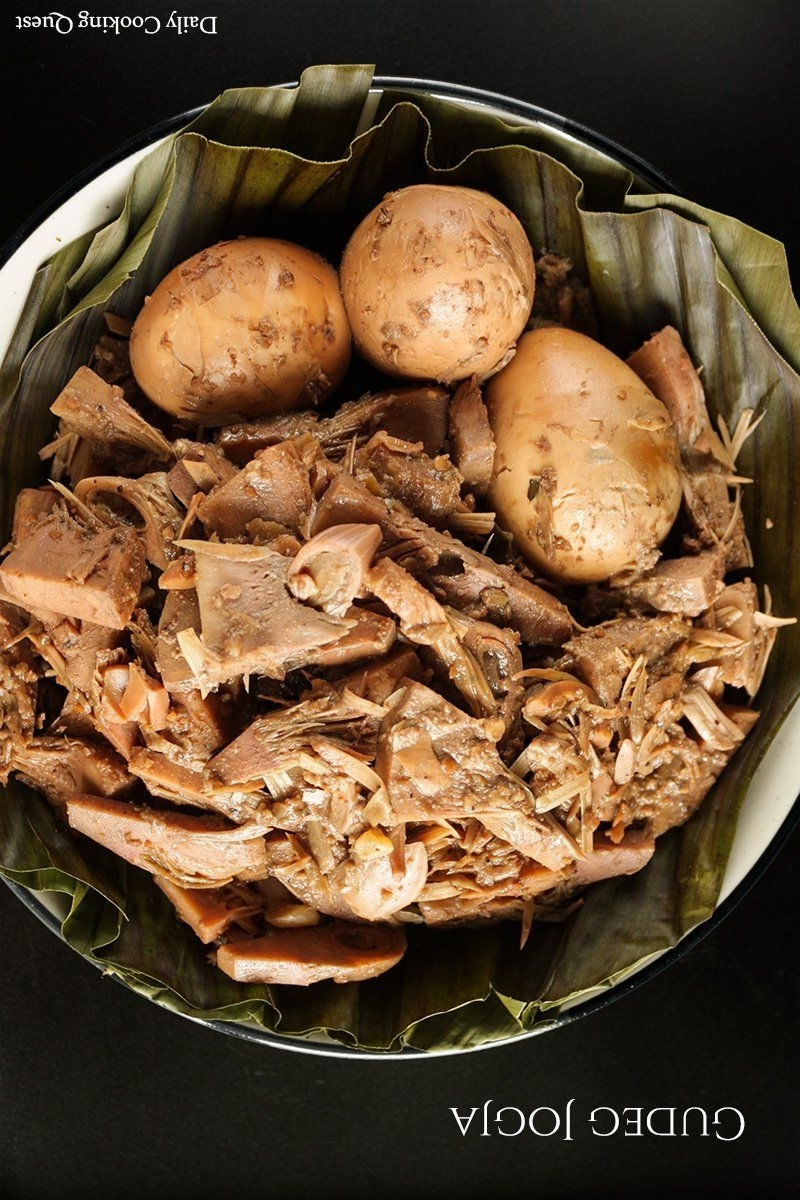gudeg: (1, 187, 786, 985)
